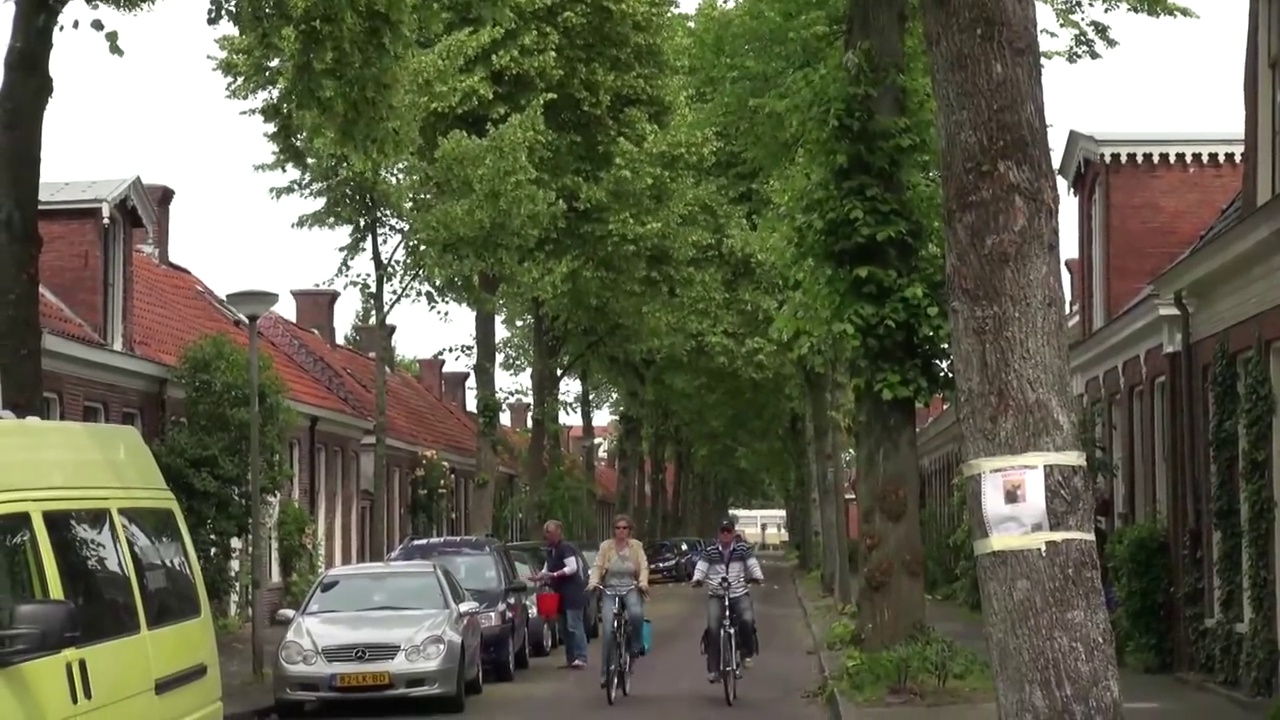cyclist_front: (693, 516, 765, 705), (588, 513, 651, 705)
